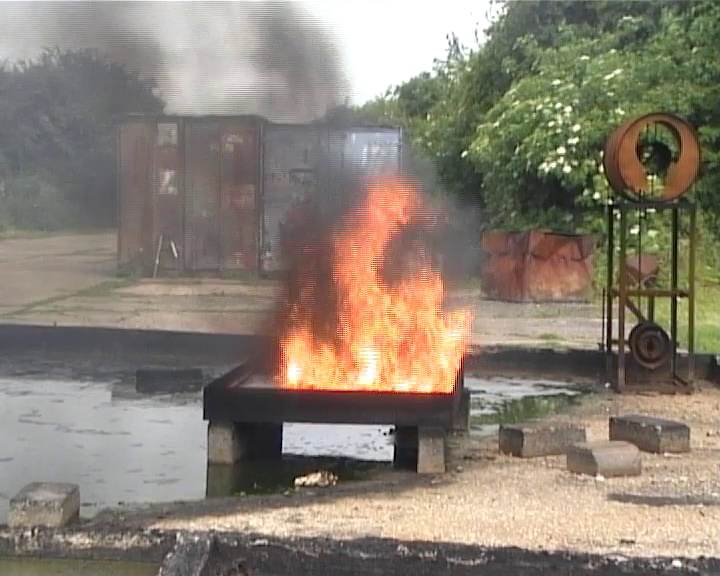fire: (278, 187, 473, 393)
